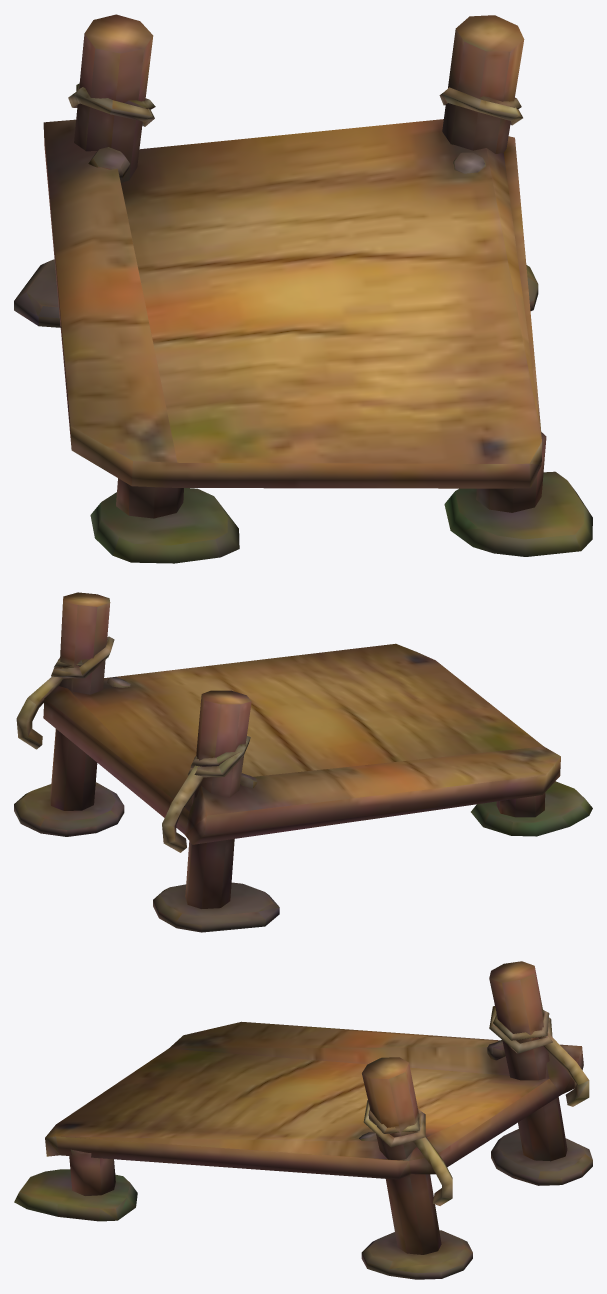
File: wyn_quest_walkway_panel.glb
3 views of the same model, one above another, from view 1: azimuth 30°, elevation 25°; view 2: azimuth 150°, elevation 25°; view 3: azimuth 270°, elevation 25° (orthographic). The views are drawn at different scales.
Visible parts, largest first — view 1: tripo_node_447d91f7-0d5b-430d-8ae4-6c51a41aab7c; view 2: tripo_node_447d91f7-0d5b-430d-8ae4-6c51a41aab7c; view 3: tripo_node_447d91f7-0d5b-430d-8ae4-6c51a41aab7c.
Part boxes in pixels (x1=…): tripo_node_447d91f7-0d5b-430d-8ae4-6c51a41aab7c: x1=14, y1=14, x2=592, y2=563; tripo_node_447d91f7-0d5b-430d-8ae4-6c51a41aab7c: x1=14, y1=592, x2=592, y2=932; tripo_node_447d91f7-0d5b-430d-8ae4-6c51a41aab7c: x1=14, y1=961, x2=592, y2=1279.
Bounding box in the file's own units: 0.5459 × 0.25 × 0.6625.
Materials: 1 (1 with a texture image).
